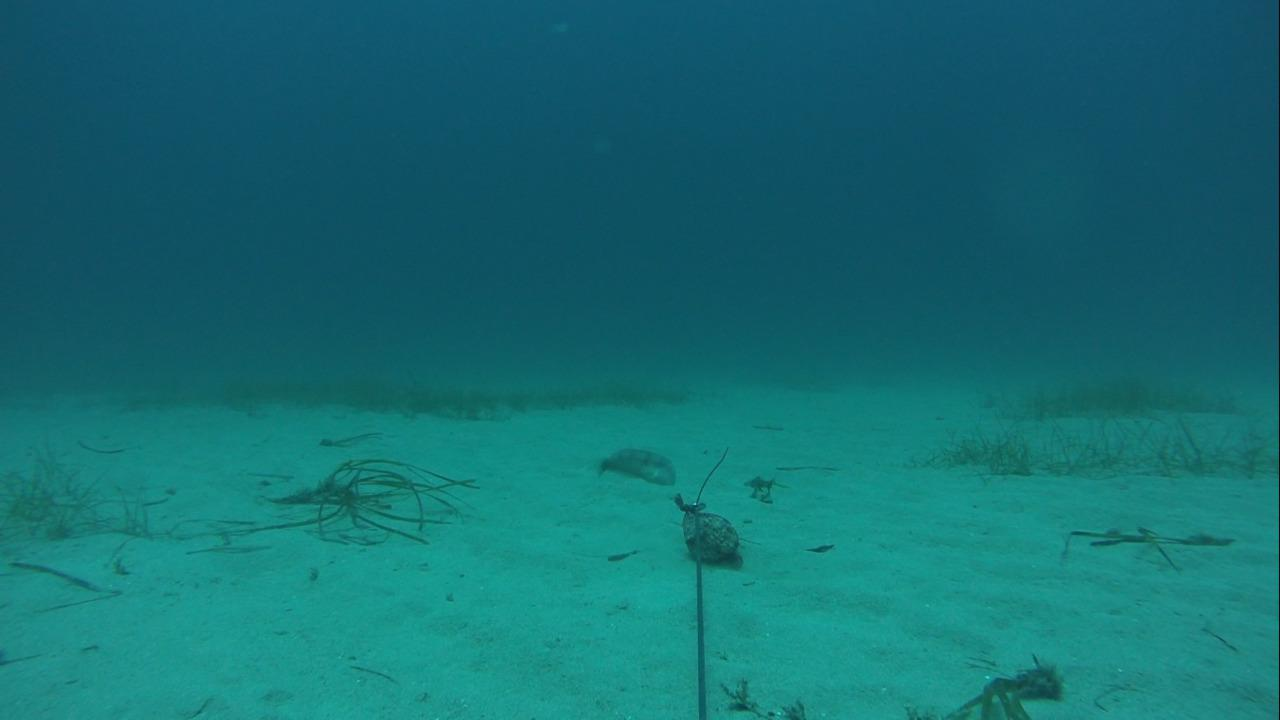raor: (590, 441, 682, 490)
